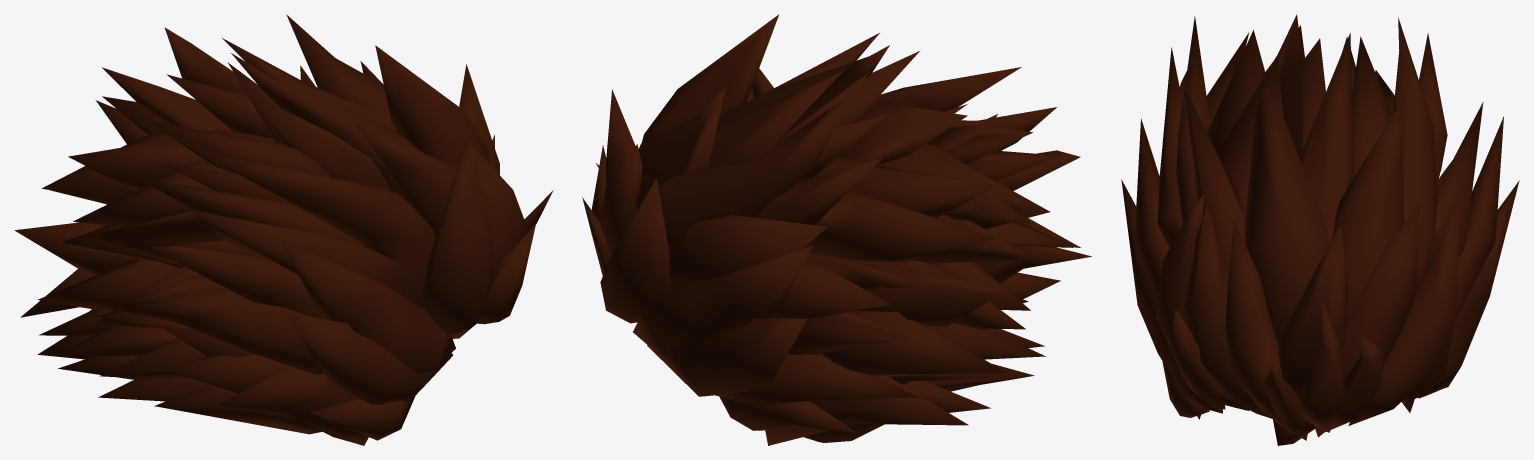
The model's file is Fur Model.fbx.
3 renders of one model, left to right at view 1: azimuth 30°, elevation 25°; view 2: azimuth 150°, elevation 25°; view 3: azimuth 270°, elevation 25°, orthographic. The views are drawn at different scales.
Parts seen in each view (by area): view 1: Enel Hair.002, Enel Hair.014, Enel Hair.026, Enel Hair.031, Enel Hair.012, Enel Hair.023, Enel Hair.003, Enel Hair.004, Enel Hair.029, Enel Hair.024, Enel Hair.009, Enel Hair.027 (+20 smaller); view 2: Enel Hair.007, Enel Hair.024, Enel Hair.031, Enel Hair.027, Enel Hair.021, Enel Hair.026, Enel Hair.019, Enel Hair.022, Enel Hair.002, Enel Hair.029, Enel Hair.020, Enel Hair.025 (+16 smaller); view 3: Enel Hair.026, Enel Hair.024, Enel Hair.007, Enel Hair.006, Enel Hair.013, Enel Hair.018, Enel Hair.014, Enel Hair.015, Enel Hair.025, Enel Hair.019, Enel Hair.012, Enel Hair.023 (+11 smaller).
Part boxes in pixels (<box>): Enel Hair.002: <box>88,177,368,445</box>; Enel Hair.014: <box>191,151,435,306</box>; Enel Hair.026: <box>230,45,490,238</box>; Enel Hair.031: <box>68,62,329,226</box>; Enel Hair.012: <box>281,239,455,374</box>; Enel Hair.023: <box>420,134,493,338</box>; Enel Hair.003: <box>107,288,324,374</box>; Enel Hair.004: <box>286,314,453,404</box>; Enel Hair.029: <box>14,222,176,309</box>; Enel Hair.024: <box>164,14,390,115</box>; Enel Hair.009: <box>57,325,206,381</box>; Enel Hair.027: <box>42,67,232,200</box>; Enel Hair.007: <box>600,178,919,405</box>; Enel Hair.024: <box>636,87,852,252</box>; Enel Hair.031: <box>772,72,1030,223</box>; Enel Hair.027: <box>754,157,996,262</box>; Enel Hair.021: <box>769,253,925,354</box>; Enel Hair.026: <box>642,14,889,142</box>; Enel Hair.019: <box>647,318,807,396</box>; Enel Hair.022: <box>669,214,827,295</box>; Enel Hair.002: <box>946,126,1091,303</box>; Enel Hair.029: <box>810,253,1025,329</box>; Enel Hair.020: <box>821,310,1007,376</box>; Enel Hair.025: <box>708,70,844,166</box>; Enel Hair.026: <box>1186,14,1329,346</box>; Enel Hair.024: <box>1332,17,1436,319</box>; Enel Hair.007: <box>1348,116,1503,425</box>; Enel Hair.006: <box>1278,225,1347,432</box>; Enel Hair.013: <box>1225,220,1309,440</box>; Enel Hair.018: <box>1313,204,1419,437</box>; Enel Hair.014: <box>1157,16,1211,247</box>; Enel Hair.015: <box>1184,205,1273,419</box>; Enel Hair.025: <box>1300,33,1353,245</box>; Enel Hair.019: <box>1414,180,1519,398</box>; Enel Hair.012: <box>1134,118,1225,409</box>; Enel Hair.023: <box>1155,194,1203,346</box>.
Size of the model in its own units: 267 by 205 by 197.
